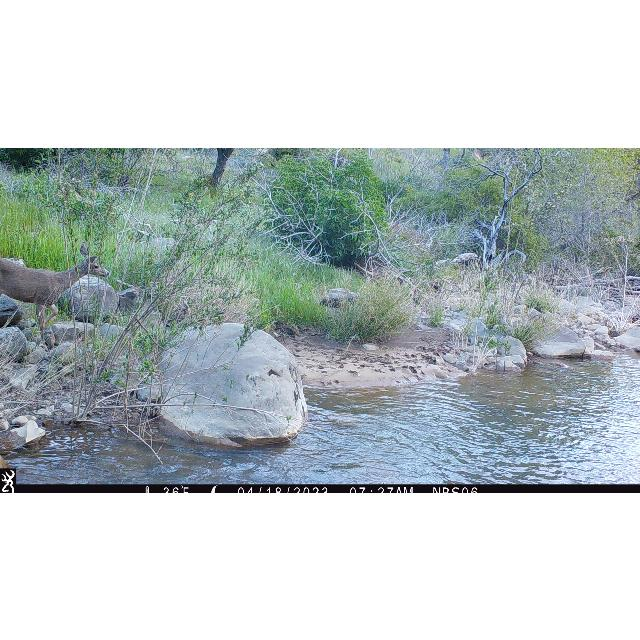animals: (0, 240, 111, 348)
